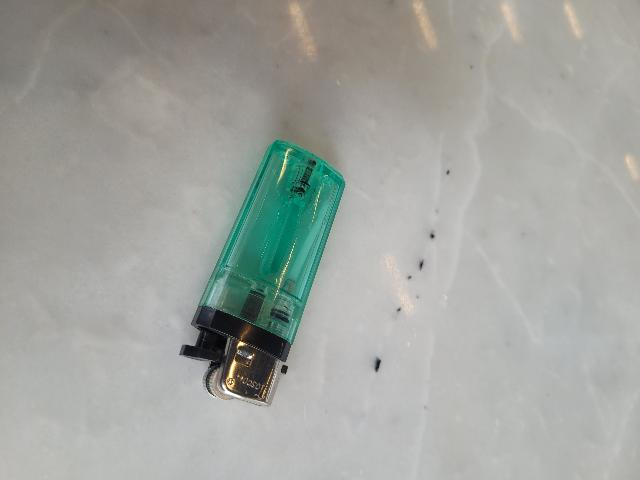Metal: (200, 331, 294, 410)
Plastik: (179, 132, 351, 416)
